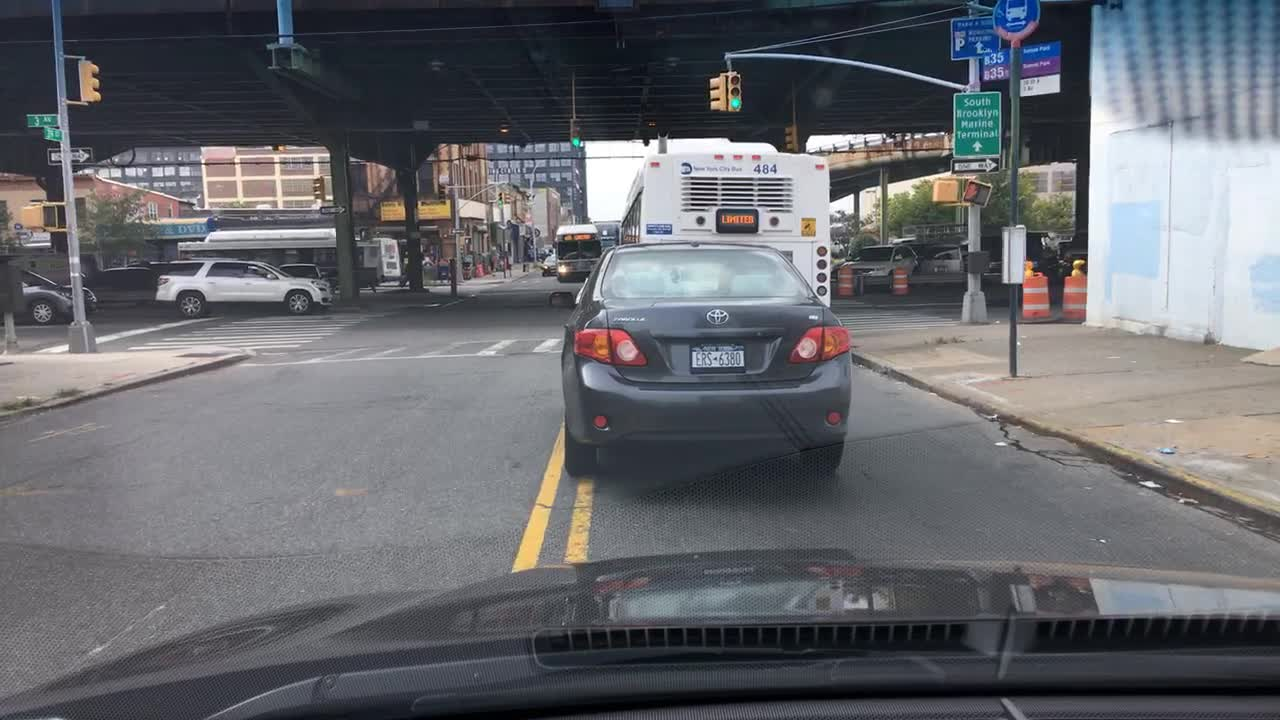bus: (616, 151, 831, 324), (178, 227, 401, 283), (553, 221, 601, 284)
car: (547, 239, 853, 479), (154, 256, 332, 317), (1, 256, 97, 327), (830, 241, 919, 291), (917, 244, 973, 274), (107, 263, 159, 290), (1058, 227, 1086, 271), (126, 260, 172, 284), (278, 261, 329, 282), (891, 237, 923, 257), (539, 256, 559, 277), (599, 234, 615, 250)
traffic light: (78, 58, 100, 104), (961, 178, 991, 208), (933, 176, 961, 204), (784, 122, 798, 152), (503, 187, 511, 204)
traffic sign: (981, 39, 1062, 80), (952, 91, 999, 156), (949, 14, 1000, 59), (991, 0, 1041, 43), (999, 223, 1027, 284), (21, 199, 57, 231), (1020, 74, 1061, 96), (47, 146, 93, 165), (951, 156, 999, 174), (707, 72, 727, 112), (726, 72, 742, 112), (24, 113, 60, 128), (40, 127, 63, 143), (313, 174, 325, 200), (571, 124, 581, 150), (319, 205, 347, 214), (448, 226, 468, 235), (497, 191, 503, 205)
